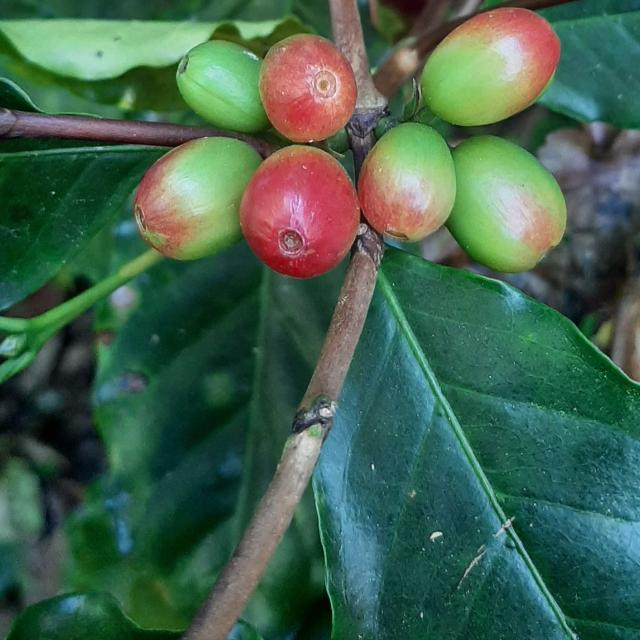green: (176, 40, 269, 132)
yellow: (446, 135, 568, 273), (421, 7, 562, 125), (239, 145, 360, 278), (133, 137, 261, 260), (358, 122, 457, 241), (259, 33, 358, 142)
